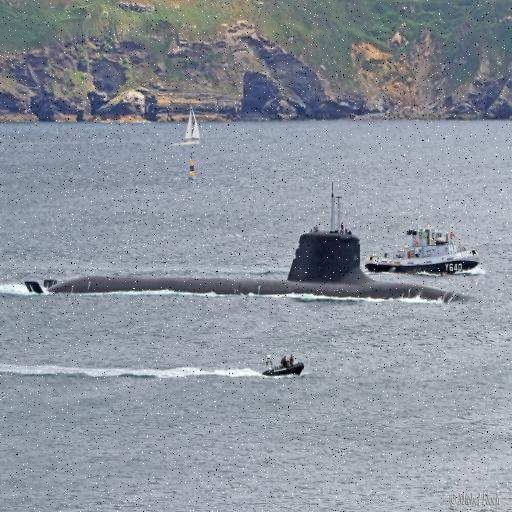submarine: (25, 178, 471, 301)
